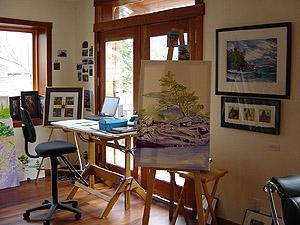Otro Obstaculo: (142, 37, 210, 222)
Puerta: (97, 25, 190, 204)
Ventana: (3, 21, 49, 118)
